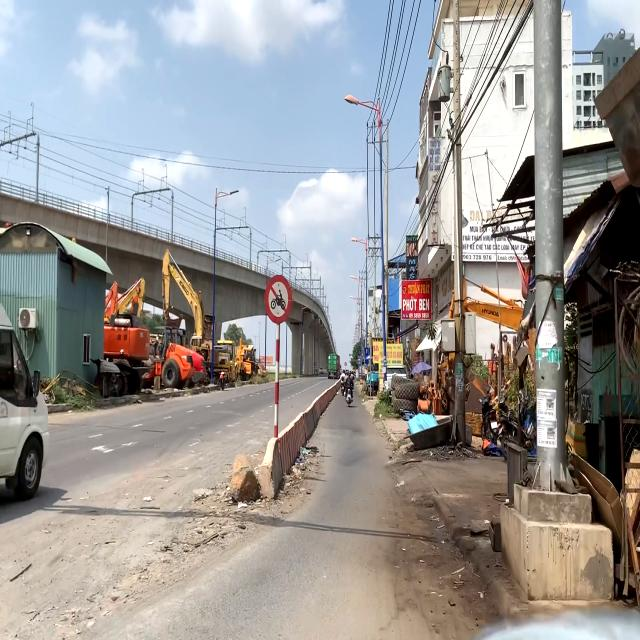P.104: (265, 275, 291, 324)
